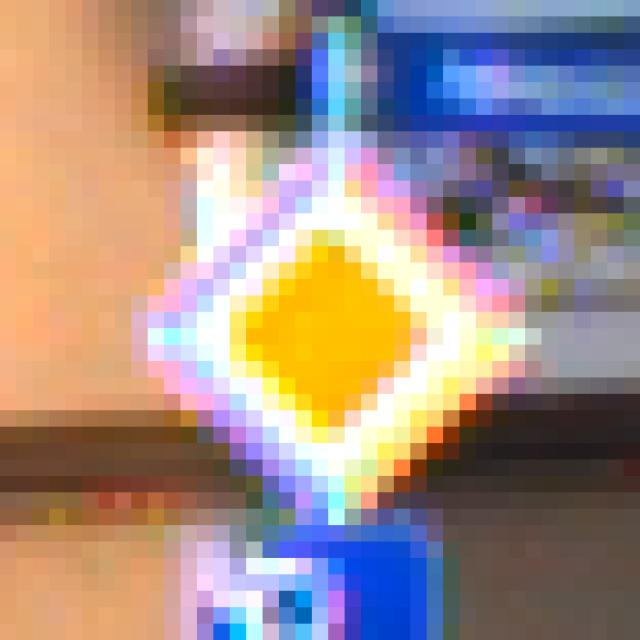Main Road: (99, 99, 559, 559)
